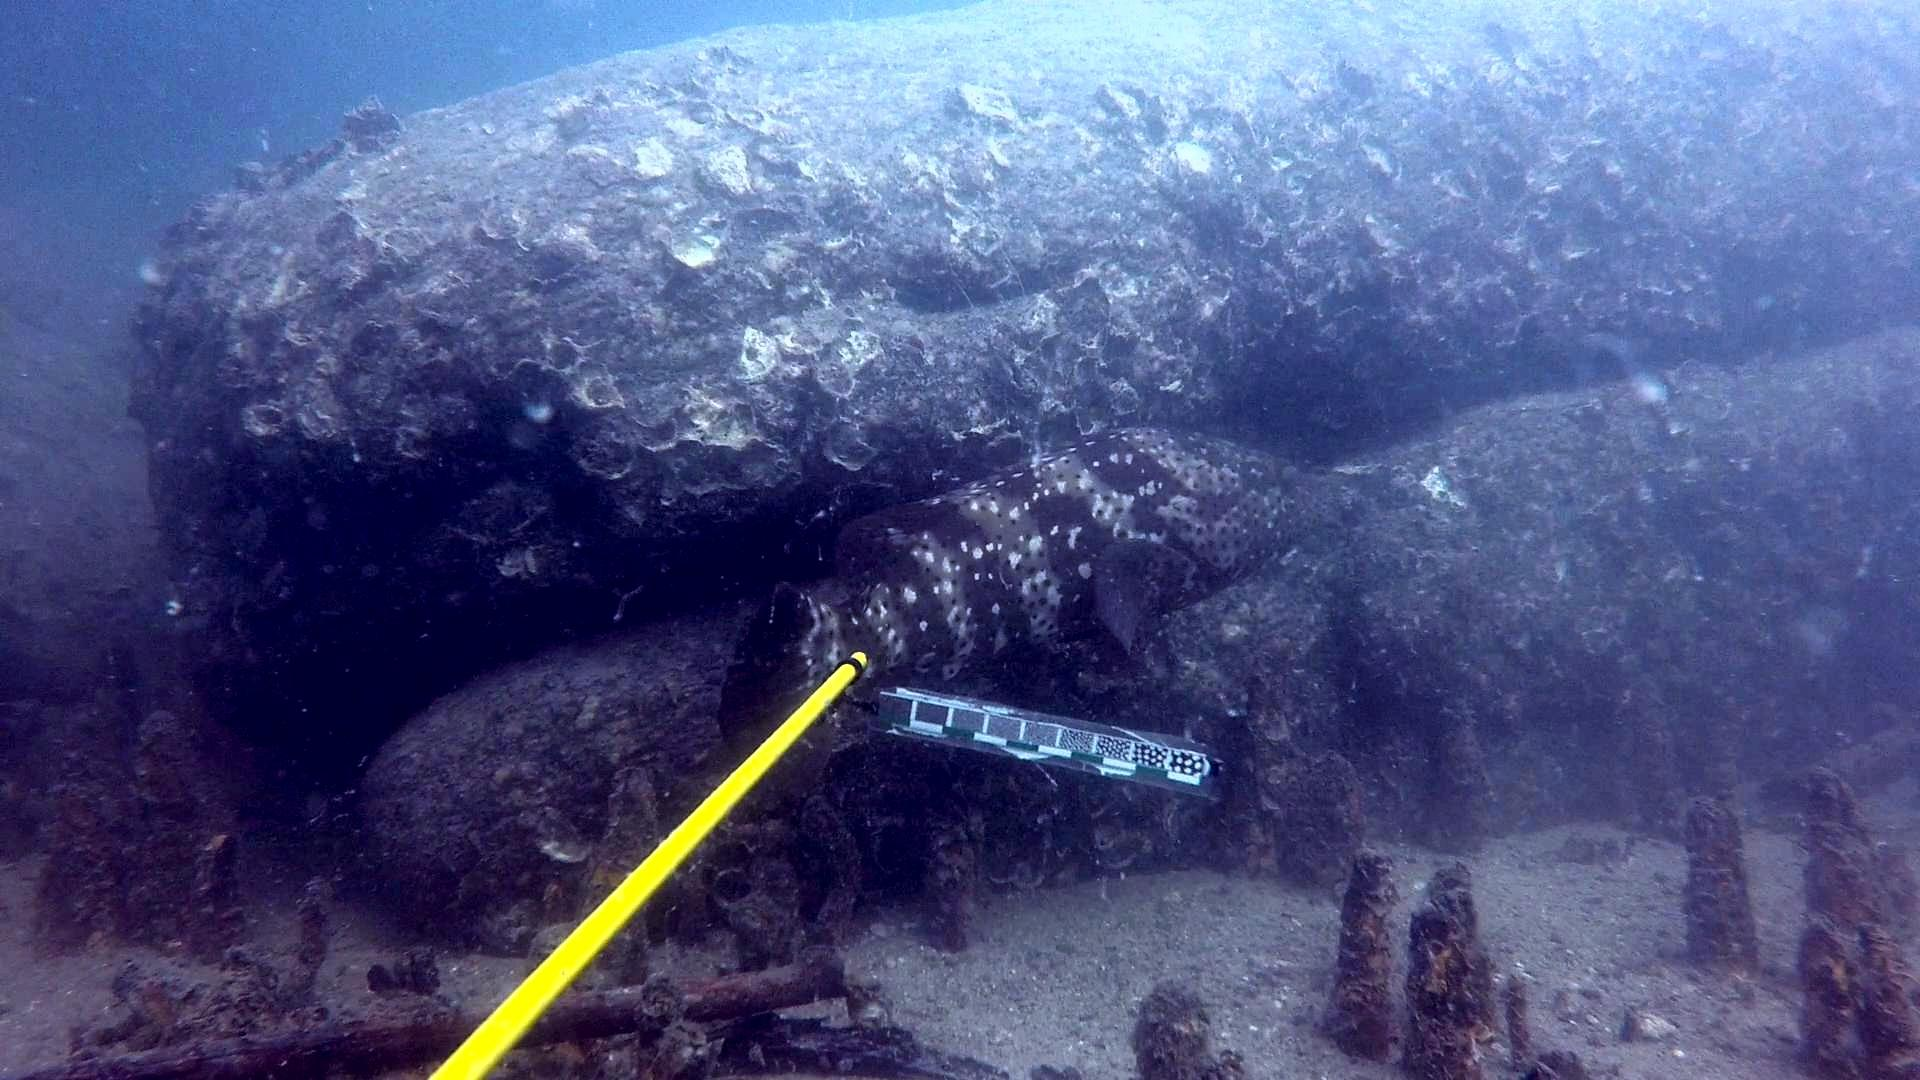epinephelus: (715, 419, 1337, 806)
